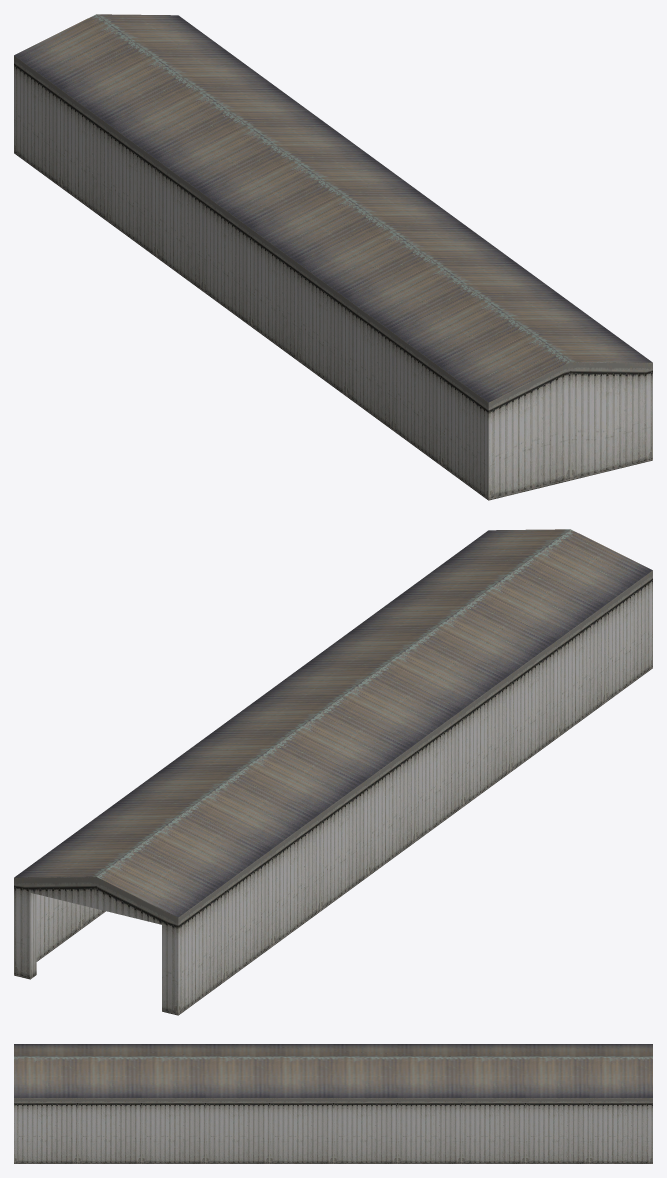
The model's file is vgsrailbuild02.obj.
The picture shows the model from 3 angles, top to bottom: view 1: azimuth 30°, elevation 25°; view 2: azimuth 150°, elevation 25°; view 3: azimuth 270°, elevation 25°; orthographic projection. The views are drawn at different scales.
Parts seen in each view (by area): view 1: vgsrailbuild02; view 2: vgsrailbuild02; view 3: vgsrailbuild02.
Part boxes in pixels (<box>): vgsrailbuild02: <box>14,14,652,500</box>; vgsrailbuild02: <box>14,529,652,1015</box>; vgsrailbuild02: <box>14,1044,652,1163</box>.
Bounding box in the file's own units: 12 × 8.29 × 60.
2 materials, 2 textured.
